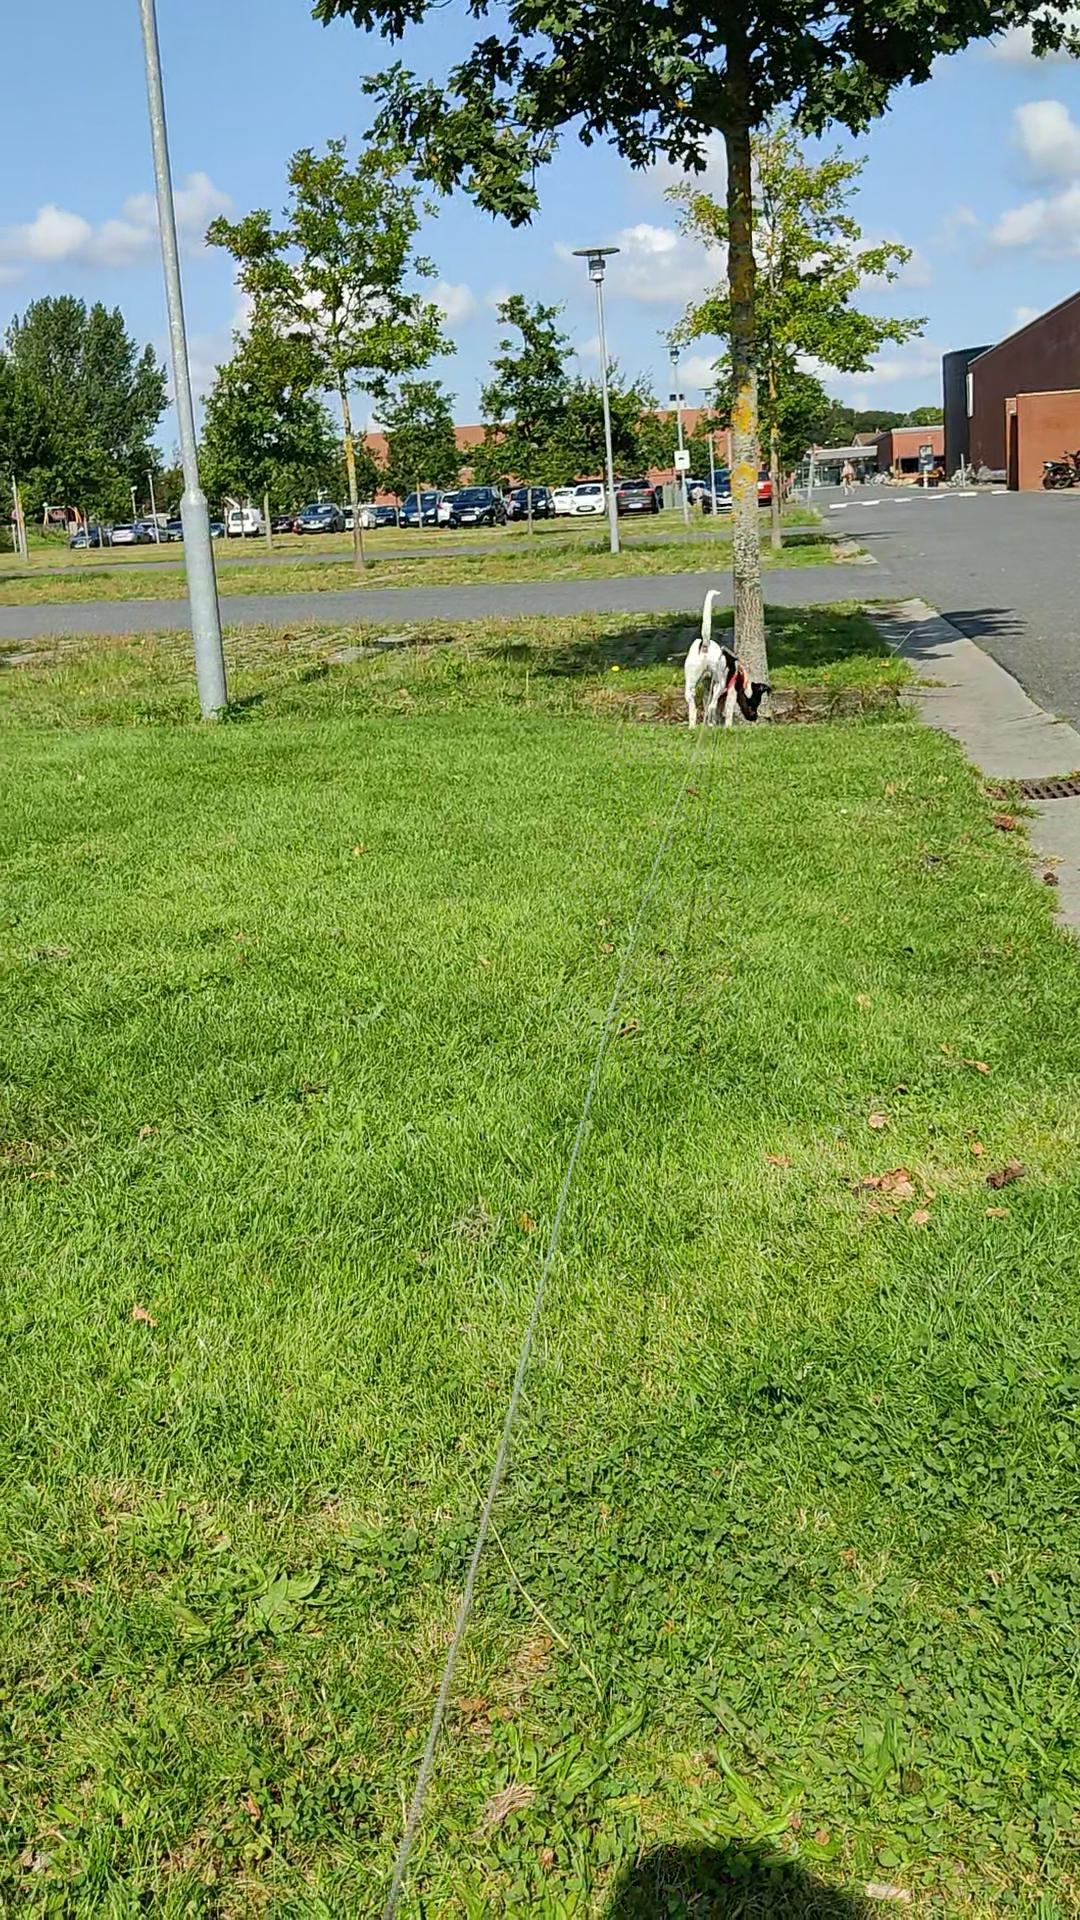Dog: (680, 585, 775, 729)
